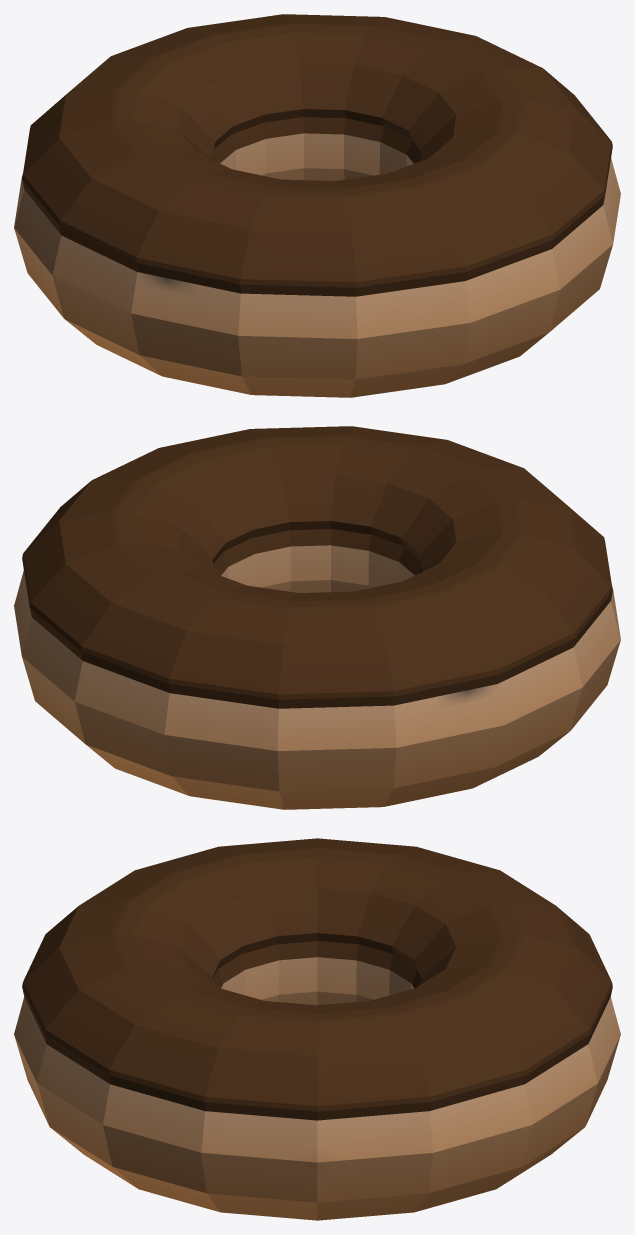
The model's file is donut.fbx.
3 renders of one model, top to bottom at view 1: azimuth 30°, elevation 25°; view 2: azimuth 150°, elevation 25°; view 3: azimuth 270°, elevation 25°, orthographic.
Parts seen in each view (by area): view 1: donut; view 2: donut; view 3: donut.
Boxes of the visible parts, box(x1,y1,x2,y2) form: donut: box(14, 14, 620, 397); donut: box(14, 426, 620, 809); donut: box(14, 838, 620, 1220).
Bounding box in the file's own units: 66 × 22.96 × 66.
